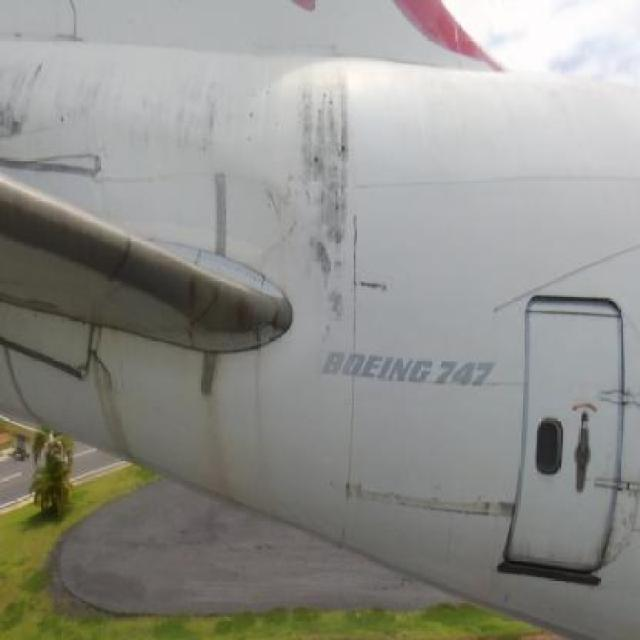Rust: (1, 39, 288, 179), (293, 60, 352, 326), (188, 347, 246, 505), (82, 325, 144, 464), (252, 344, 288, 531), (182, 267, 264, 339), (2, 336, 53, 438)
Scartch: (334, 465, 514, 538), (354, 211, 401, 323), (250, 181, 313, 254), (600, 472, 640, 586)
